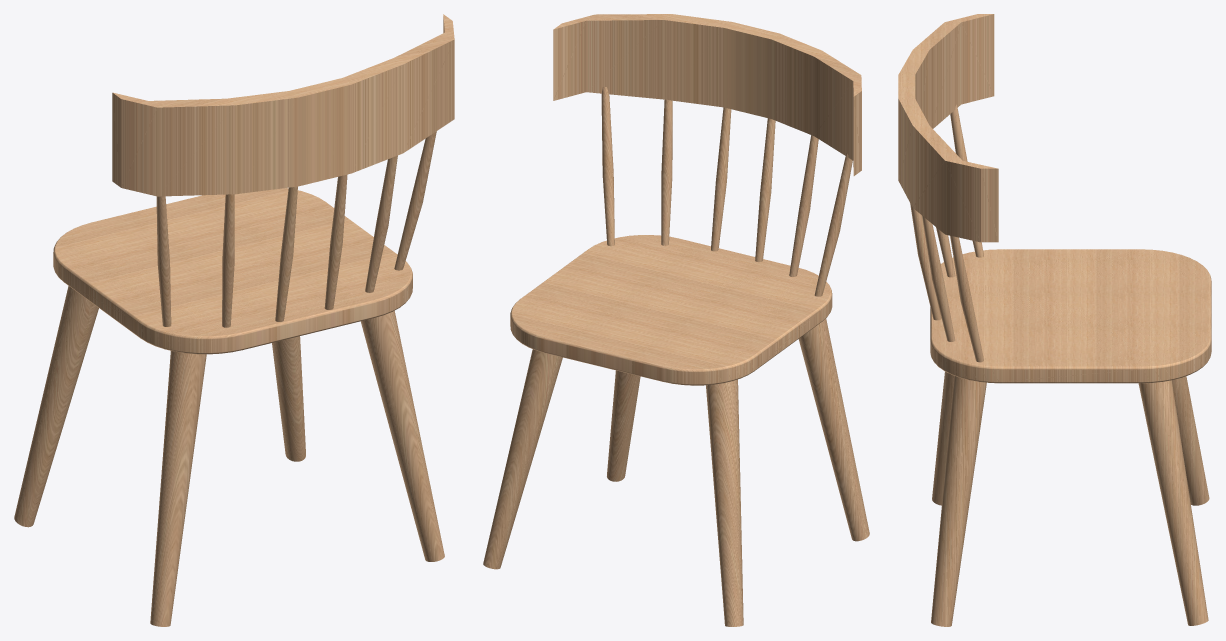
The model's file is Kursi_Meja_Makan.fbx.
The picture shows the model from 3 angles, left to right: view 1: azimuth 30°, elevation 25°; view 2: azimuth 150°, elevation 25°; view 3: azimuth 270°, elevation 25°; orthographic projection. The views are drawn at different scales.
Visible parts, largest first — view 1: polySurface35; view 2: polySurface35; view 3: polySurface35.
Part boxes in pixels (box(x1,y1,x2,y2)): polySurface35: box(14, 14, 454, 626); polySurface35: box(483, 14, 869, 626); polySurface35: box(898, 14, 1211, 626).
Bounding box in the file's own units: 4.67 × 6.95 × 4.11.
